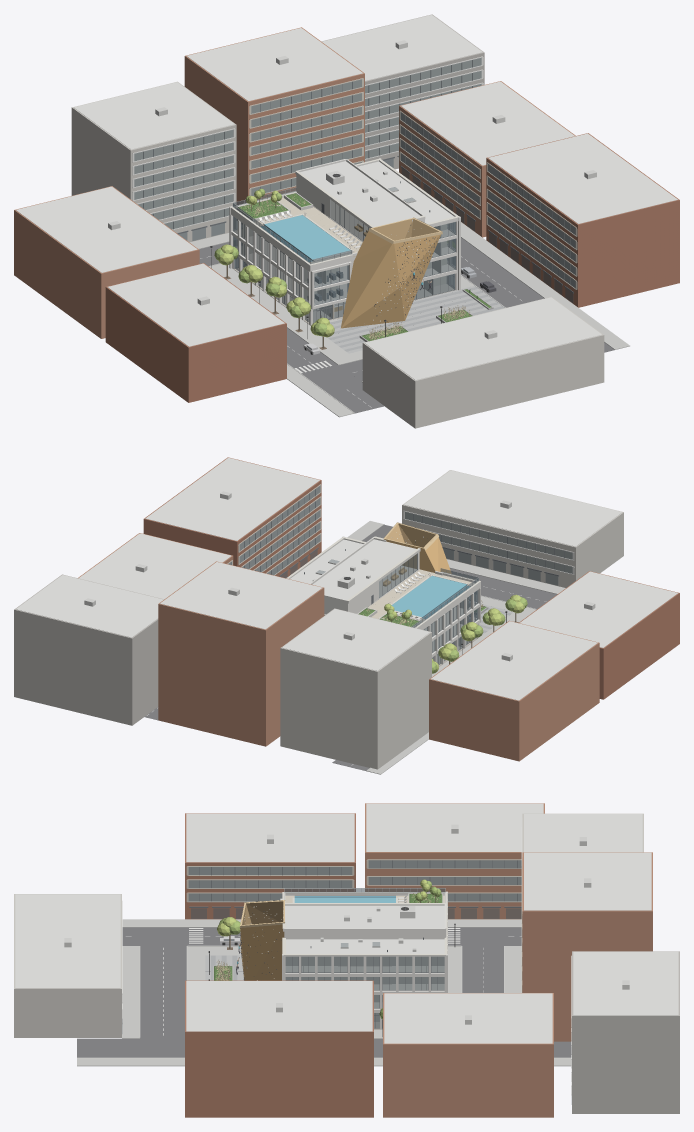
The model's file is clay-climbing-overhang-clay-v001.glb.
The picture shows the model from 3 angles, top to bottom: view 1: azimuth 30°, elevation 25°; view 2: azimuth 150°, elevation 25°; view 3: azimuth 270°, elevation 25°; orthographic projection. The views are drawn at different scales.
Parts seen in each view (by area): view 1: CLAY_MEMBRANE, CLAY_GLASS, CLAY_INTERIOR, CLAY_BRICK, CLAY_CTX, CLAY_BRICK2, CLAY_TIMBER, CLAY_PRECAST, CLAY_ASPHALT, CLAY_CONCRETE2, CLAY_STONE, CLAY_FRAME (+12 smaller); view 2: CLAY_MEMBRANE, CLAY_BRICK2, CLAY_CTX, CLAY_CTX2, CLAY_BRICK, CLAY_GLASS, CLAY_INTERIOR, CLAY_PRECAST, CLAY_CONCRETE2, CLAY_TIMBER, CLAY_ASPHALT, CLAY_FRAME (+8 smaller); view 3: CLAY_MEMBRANE, CLAY_BRICK2, CLAY_BRICK, CLAY_GLASS, CLAY_ASPHALT, CLAY_CTX2, CLAY_INTERIOR, CLAY_CONCRETE2, CLAY_CTX, CLAY_PRECAST, CLAY_TIMBER, CLAY_STONE (+6 smaller).
Part boxes in pixels (left/top/right/bottom): CLAY_MEMBRANE: left=16, top=15, right=677, bottom=380; CLAY_GLASS: left=134, top=58, right=575, bottom=349; CLAY_INTERIOR: left=134, top=58, right=575, bottom=319; CLAY_BRICK: left=105, top=133, right=679, bottom=402; CLAY_CTX: left=71, top=81, right=604, bottom=428; CLAY_BRICK2: left=14, top=27, right=575, bottom=338; CLAY_TIMBER: left=334, top=218, right=440, bottom=328; CLAY_PRECAST: left=229, top=158, right=460, bottom=325; CLAY_ASPHALT: left=199, top=237, right=614, bottom=413; CLAY_CONCRETE2: left=189, top=187, right=629, bottom=417; CLAY_STONE: left=249, top=78, right=577, bottom=289; CLAY_FRAME: left=143, top=60, right=573, bottom=321; CLAY_MEMBRANE: left=15, top=457, right=677, bottom=700; CLAY_BRICK2: left=78, top=533, right=599, bottom=761; CLAY_CTX: left=280, top=470, right=623, bottom=769; CLAY_CTX2: left=14, top=574, right=163, bottom=725; CLAY_BRICK: left=143, top=457, right=679, bottom=699; CLAY_GLASS: left=229, top=486, right=572, bottom=664; CLAY_INTERIOR: left=229, top=486, right=572, bottom=651; CLAY_PRECAST: left=289, top=536, right=480, bottom=664; CLAY_CONCRETE2: left=315, top=521, right=565, bottom=774; CLAY_TIMBER: left=383, top=522, right=451, bottom=586; CLAY_ASPHALT: left=144, top=524, right=556, bottom=771; CLAY_FRAME: left=244, top=489, right=564, bottom=664; CLAY_MEMBRANE: left=15, top=803, right=678, bottom=1043; CLAY_BRICK2: left=365, top=803, right=652, bottom=1117; CLAY_BRICK: left=185, top=813, right=373, bottom=1117; CLAY_GLASS: left=122, top=860, right=571, bottom=1104; CLAY_ASPHALT: left=77, top=927, right=571, bottom=1057; CLAY_CTX2: left=572, top=951, right=679, bottom=1113; CLAY_INTERIOR: left=188, top=860, right=521, bottom=1021; CLAY_CONCRETE2: left=77, top=919, right=571, bottom=1066; CLAY_CTX: left=14, top=813, right=643, bottom=1037; CLAY_PRECAST: left=280, top=891, right=447, bottom=1029; CLAY_TIMBER: left=240, top=900, right=284, bottom=980; CLAY_STONE: left=186, top=857, right=522, bottom=992.
Size of the model in its own units: 130 by 33.2 by 148.
